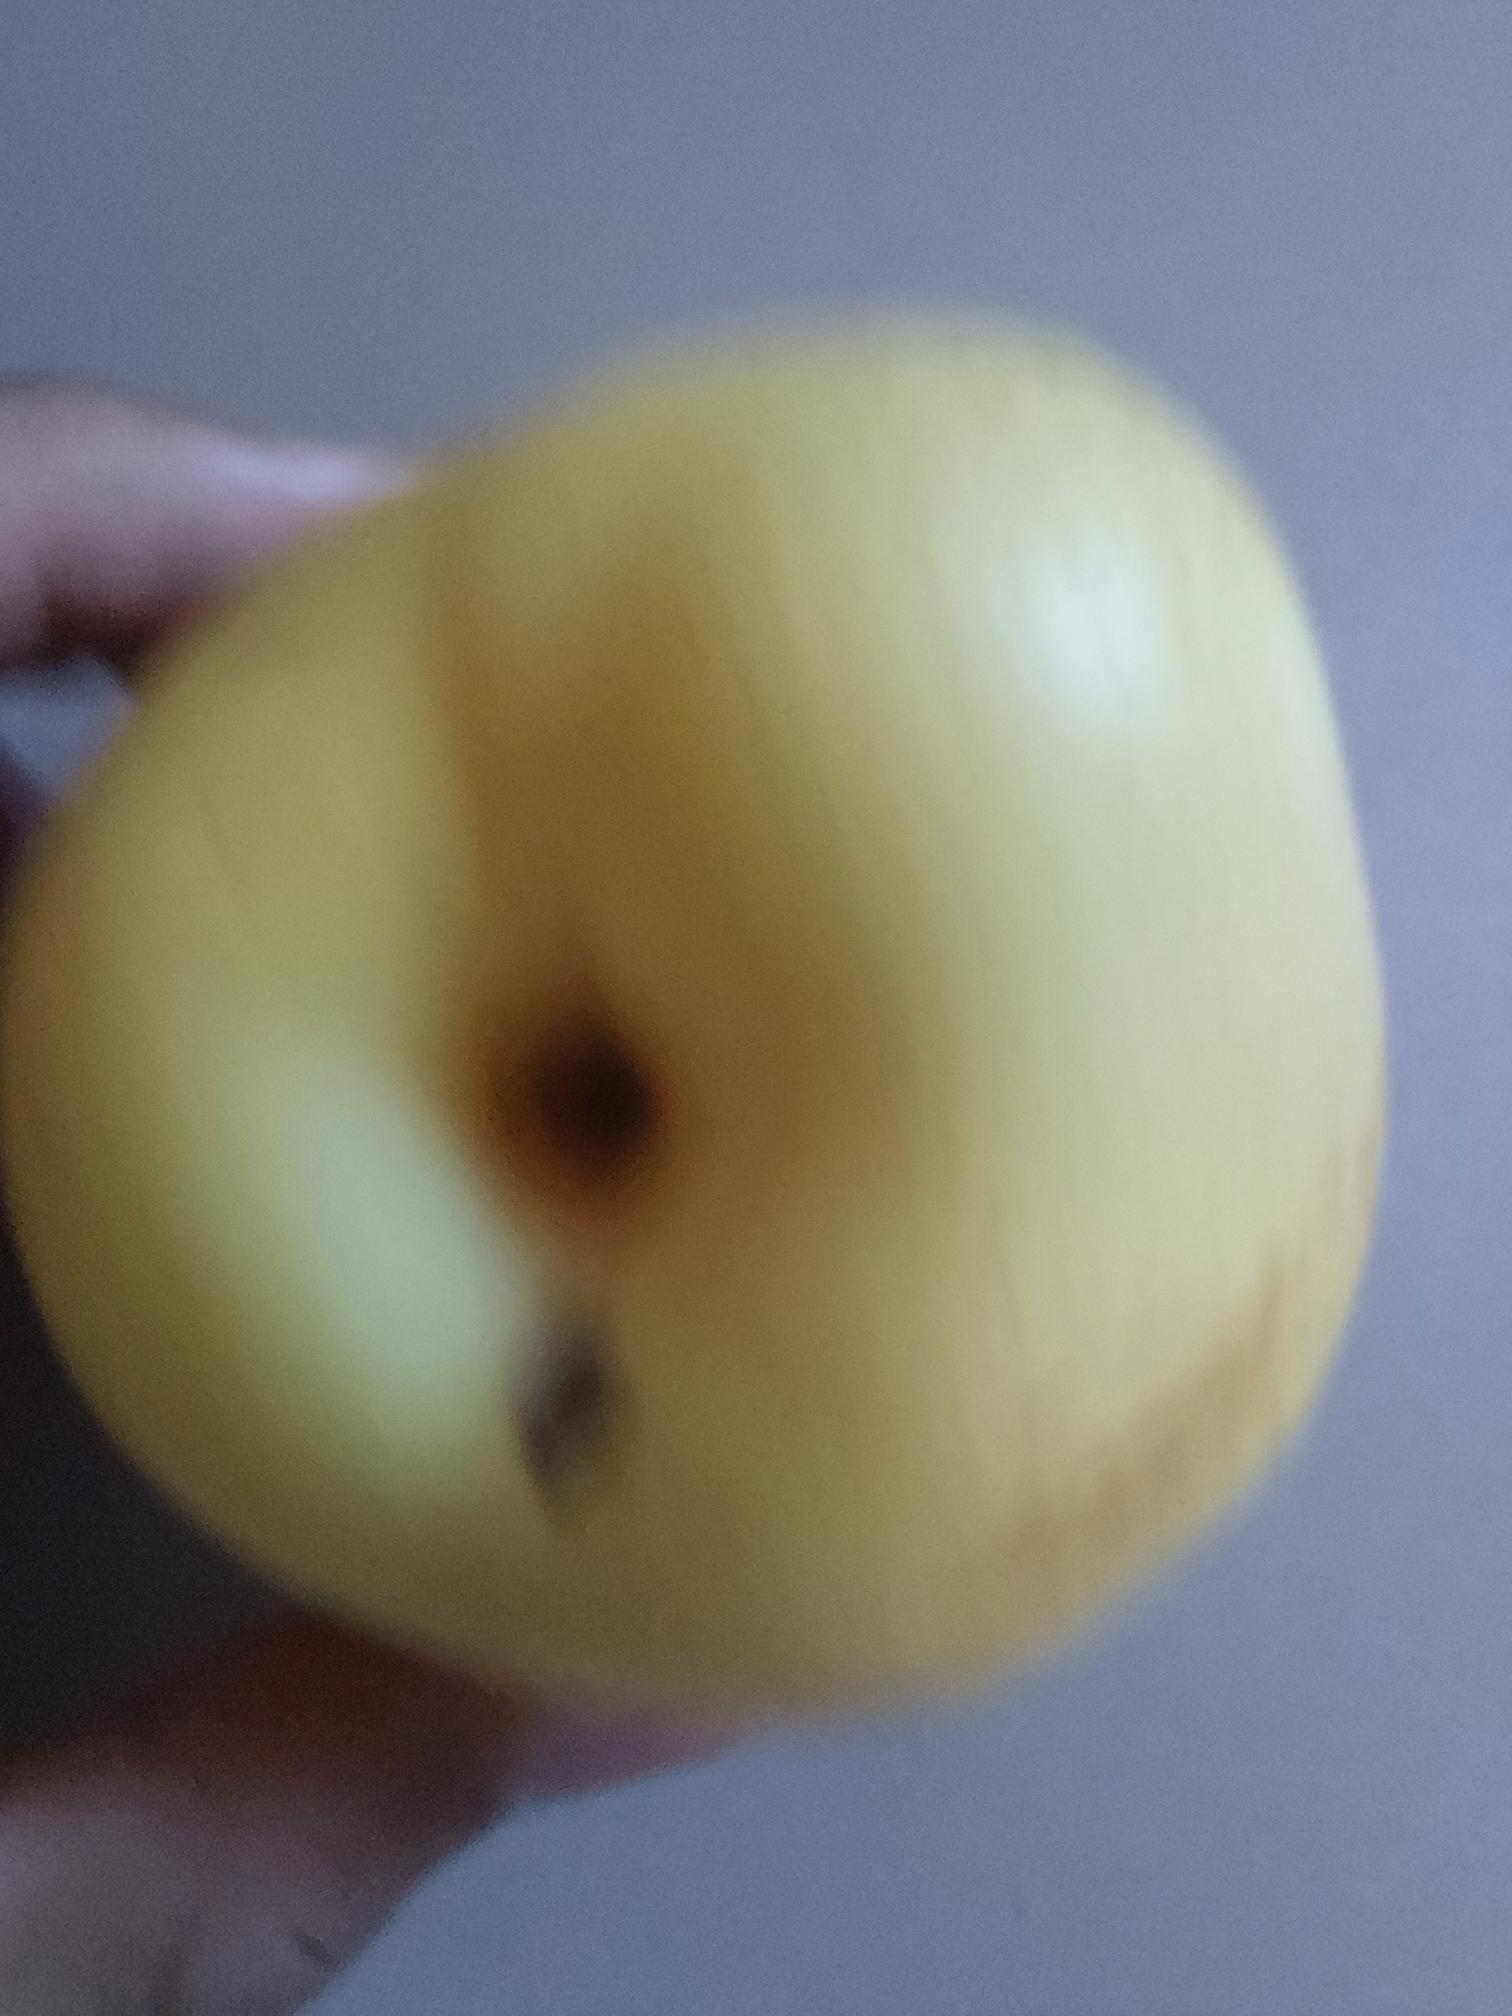Good Pear: (0, 313, 1417, 1759)
